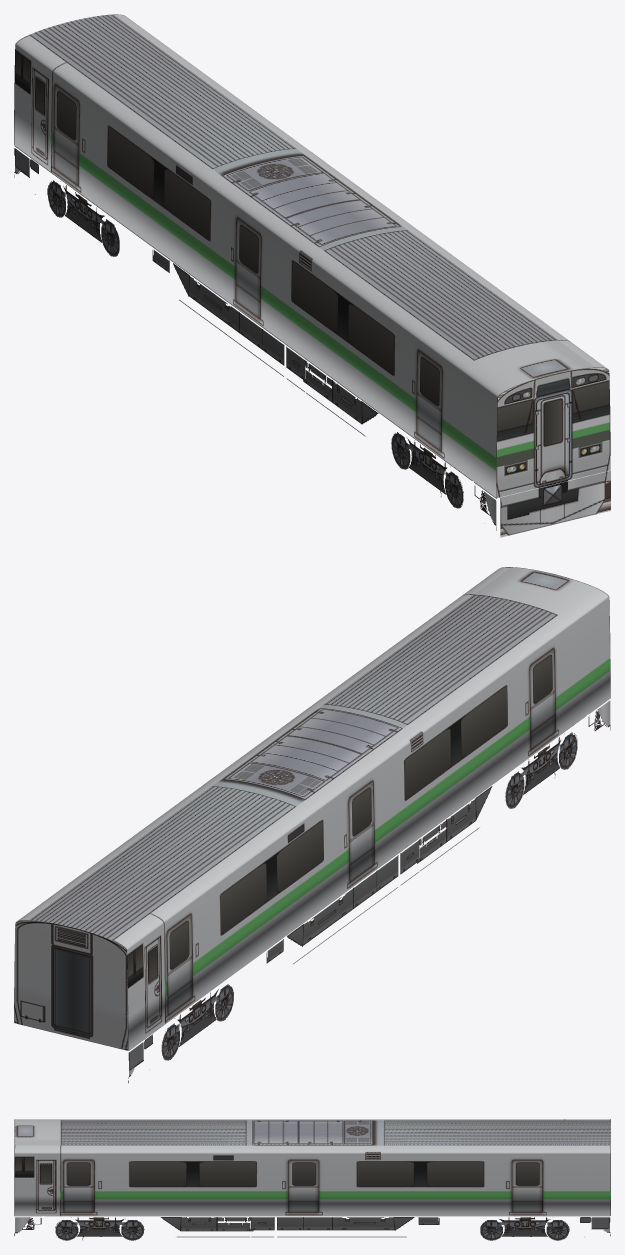
Rendered from car1.glb.
3 views of the same model, one above another, from view 1: azimuth 30°, elevation 25°; view 2: azimuth 150°, elevation 25°; view 3: azimuth 270°, elevation 25° (orthographic). The views are drawn at different scales.
Visible parts, largest first — view 1: jr733-car1; view 2: jr733-car1; view 3: jr733-car1.
Part boxes in pixels (left/top/right/bottom): jr733-car1: left=14, top=14, right=610, bottom=537; jr733-car1: left=14, top=567, right=610, bottom=1083; jr733-car1: left=14, top=1119, right=610, bottom=1240.
Size of the model in its own units: 2.89 by 3.63 by 21.21.
7 materials, 6 textured.
